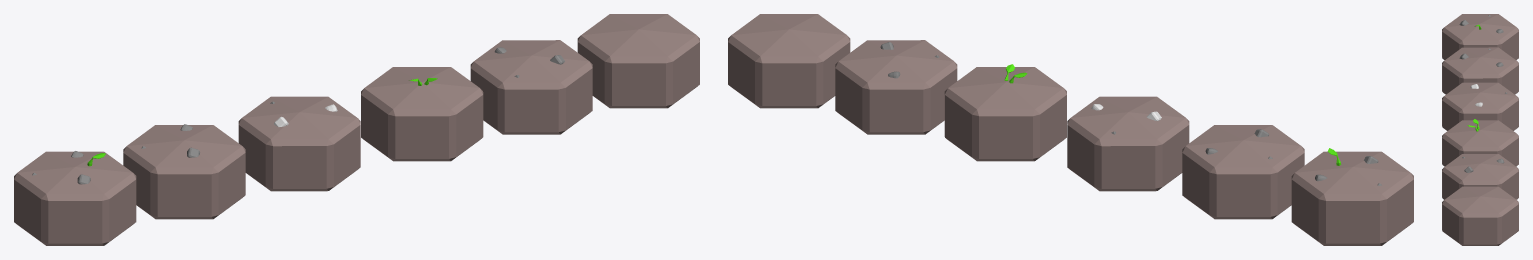
The model's file is Map Tiles.glb.
3 renders of one model, left to right at view 1: azimuth 30°, elevation 25°; view 2: azimuth 150°, elevation 25°; view 3: azimuth 270°, elevation 25°, orthographic. The views are drawn at different scales.
Parts seen in each view (by area): view 1: Hex peble.003, Hex Plant, Hex peble.006, Hex peble.009, Hex peble.007, BaseHex; view 2: Hex peble.003, Hex Plant, Hex peble.006, Hex peble.009, Hex peble.007, BaseHex; view 3: BaseHex, Hex peble.006, Hex peble.007, Hex peble.003, Hex Plant, Hex peble.009, Hex peble.001, Hex Plant.003.
Part boxes in pixels (box(x1,y1,x2,y2)): Hex peble.003: box(14, 151, 136, 245); Hex Plant: box(361, 67, 483, 161); Hex peble.006: box(238, 96, 360, 191); Hex peble.009: box(470, 40, 592, 134); Hex peble.007: box(123, 124, 245, 219); BaseHex: box(577, 14, 699, 108); Hex peble.003: box(1291, 148, 1413, 245); Hex Plant: box(944, 67, 1066, 161); Hex peble.006: box(1067, 96, 1189, 191); Hex peble.009: box(835, 40, 957, 134); Hex peble.007: box(1182, 125, 1304, 219); BaseHex: box(728, 14, 850, 108); BaseHex: box(1442, 186, 1518, 245); Hex peble.006: box(1442, 82, 1518, 130); Hex peble.007: box(1442, 47, 1518, 94); Hex peble.003: box(1442, 14, 1518, 60); Hex Plant: box(1442, 120, 1518, 166); Hex peble.009: box(1442, 154, 1518, 199); Hex peble.001: box(1470, 84, 1482, 106); Hex Plant.003: box(1467, 119, 1479, 131).
Bounding box in the file's own units: 26.81 × 2.62 × 4.3.
